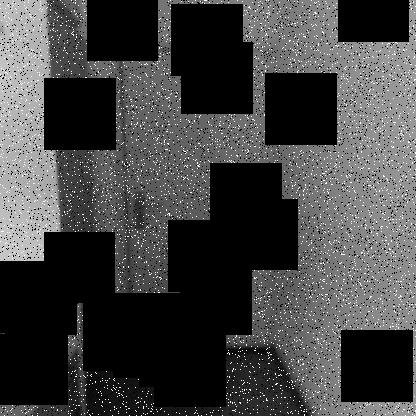Porte: (110, 43, 280, 351)
